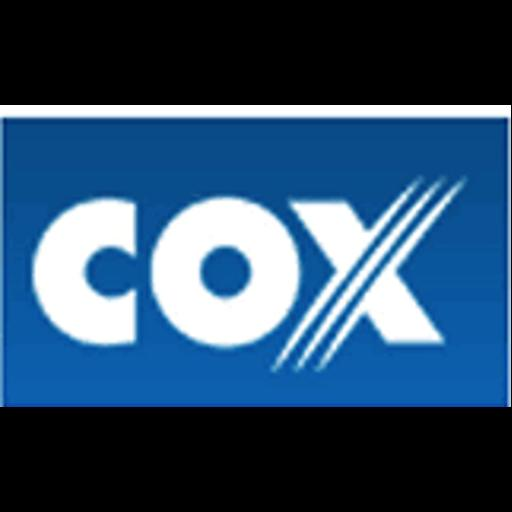Cox Communications: (0, 105, 511, 407)
